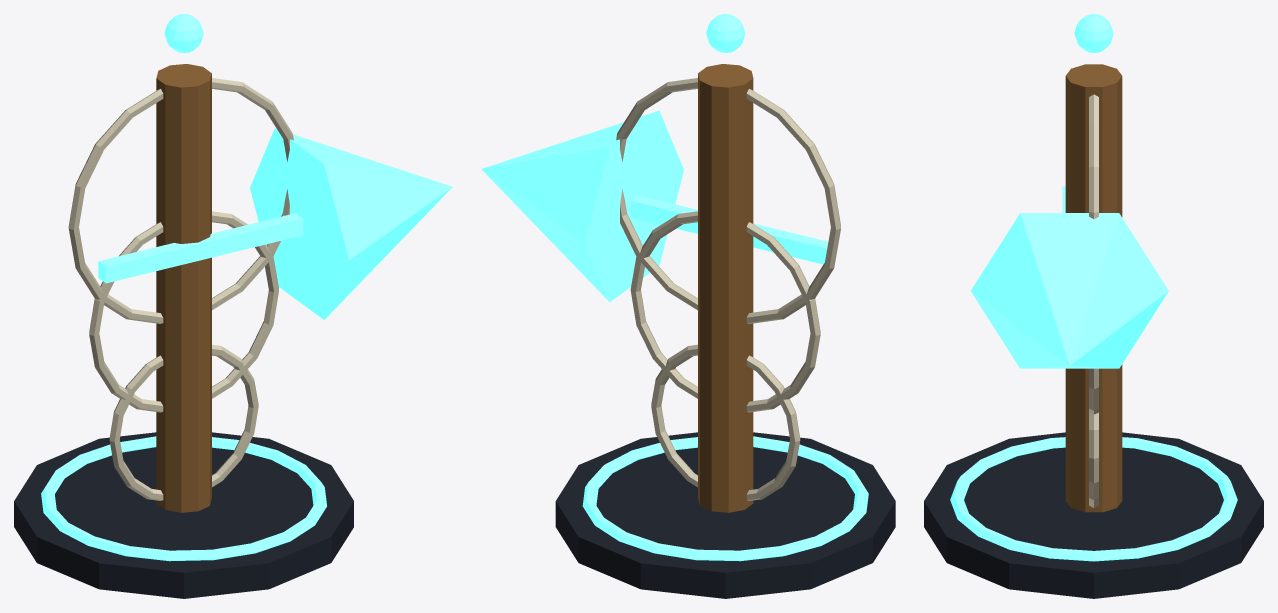
Rendered from runtime.glb.
3 views of the same model, side by side, from view 1: azimuth 30°, elevation 25°; view 2: azimuth 150°, elevation 25°; view 3: azimuth 270°, elevation 25° (orthographic).
Parts seen in each view (by area): view 1: aetherion-orbit-beacon-v07_base_nocol, aetherion-orbit-beacon-v07_mast_nocol, aetherion-orbit-beacon-v07_direction_head_nocol, aetherion-orbit-beacon-v07_base_orbit_nocol, aetherion-orbit-beacon-v07_meridian_2_nocol, aetherion-orbit-beacon-v07_direction_bar_nocol, aetherion-orbit-beacon-v07_meridian_1_nocol, aetherion-orbit-beacon-v07_meridian_0_nocol, aetherion-orbit-beacon-v07_zenith_nocol; view 2: aetherion-orbit-beacon-v07_base_nocol, aetherion-orbit-beacon-v07_mast_nocol, aetherion-orbit-beacon-v07_direction_head_nocol, aetherion-orbit-beacon-v07_base_orbit_nocol, aetherion-orbit-beacon-v07_meridian_2_nocol, aetherion-orbit-beacon-v07_meridian_1_nocol, aetherion-orbit-beacon-v07_meridian_0_nocol, aetherion-orbit-beacon-v07_direction_bar_nocol, aetherion-orbit-beacon-v07_zenith_nocol; view 3: aetherion-orbit-beacon-v07_base_nocol, aetherion-orbit-beacon-v07_direction_head_nocol, aetherion-orbit-beacon-v07_mast_nocol, aetherion-orbit-beacon-v07_base_orbit_nocol, aetherion-orbit-beacon-v07_meridian_2_nocol, aetherion-orbit-beacon-v07_zenith_nocol, aetherion-orbit-beacon-v07_meridian_0_nocol, aetherion-orbit-beacon-v07_meridian_1_nocol.
Boxes of the visible parts, <box> form: aetherion-orbit-beacon-v07_base_nocol: <box>14,432,353,598</box>; aetherion-orbit-beacon-v07_mast_nocol: <box>156,64,211,512</box>; aetherion-orbit-beacon-v07_direction_head_nocol: <box>250,128,452,319</box>; aetherion-orbit-beacon-v07_base_orbit_nocol: <box>41,436,326,561</box>; aetherion-orbit-beacon-v07_meridian_2_nocol: <box>68,78,293,323</box>; aetherion-orbit-beacon-v07_direction_bar_nocol: <box>98,213,303,283</box>; aetherion-orbit-beacon-v07_meridian_1_nocol: <box>89,211,278,412</box>; aetherion-orbit-beacon-v07_meridian_0_nocol: <box>109,344,258,500</box>; aetherion-orbit-beacon-v07_zenith_nocol: <box>164,14,203,52</box>; aetherion-orbit-beacon-v07_base_nocol: <box>555,432,895,598</box>; aetherion-orbit-beacon-v07_mast_nocol: <box>698,64,753,512</box>; aetherion-orbit-beacon-v07_direction_head_nocol: <box>481,110,683,301</box>; aetherion-orbit-beacon-v07_base_orbit_nocol: <box>582,436,868,561</box>; aetherion-orbit-beacon-v07_meridian_2_nocol: <box>616,78,840,323</box>; aetherion-orbit-beacon-v07_meridian_1_nocol: <box>630,211,820,412</box>; aetherion-orbit-beacon-v07_meridian_0_nocol: <box>651,344,800,500</box>; aetherion-orbit-beacon-v07_direction_bar_nocol: <box>631,195,828,264</box>; aetherion-orbit-beacon-v07_zenith_nocol: <box>706,14,745,52</box>; aetherion-orbit-beacon-v07_base_nocol: <box>924,432,1263,598</box>; aetherion-orbit-beacon-v07_direction_head_nocol: <box>971,213,1168,368</box>; aetherion-orbit-beacon-v07_mast_nocol: <box>1065,64,1122,512</box>; aetherion-orbit-beacon-v07_base_orbit_nocol: <box>950,437,1237,561</box>; aetherion-orbit-beacon-v07_meridian_2_nocol: <box>1089,94,1098,218</box>; aetherion-orbit-beacon-v07_zenith_nocol: <box>1074,14,1113,52</box>; aetherion-orbit-beacon-v07_meridian_0_nocol: <box>1089,412,1098,507</box>; aetherion-orbit-beacon-v07_meridian_1_nocol: <box>1089,368,1098,414</box>.
Size of the model in its own units: 8.08 by 9.78 by 5.89.
